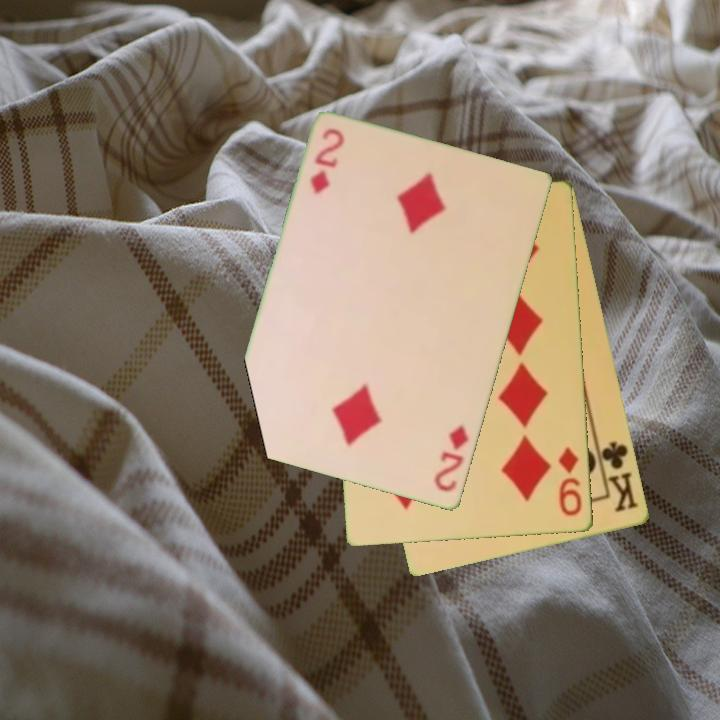2d: (430, 421, 472, 496), (307, 125, 347, 198)
9d: (555, 444, 585, 519)
Kc: (594, 438, 642, 516)
